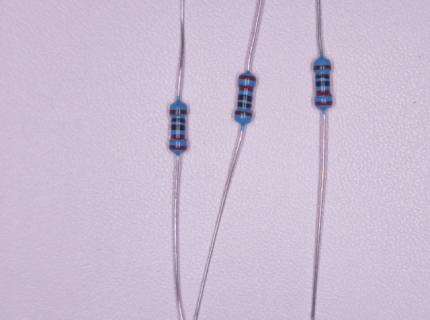Black band: (239, 94, 253, 102), (171, 118, 185, 124), (171, 125, 185, 131), (238, 102, 252, 108), (316, 74, 330, 80), (316, 81, 330, 87)
Brown band: (235, 110, 252, 116), (314, 65, 331, 71), (170, 110, 187, 115)
Red band: (238, 75, 256, 82), (238, 85, 254, 92), (314, 101, 333, 106), (169, 145, 187, 150), (316, 90, 331, 96), (171, 134, 186, 139)
